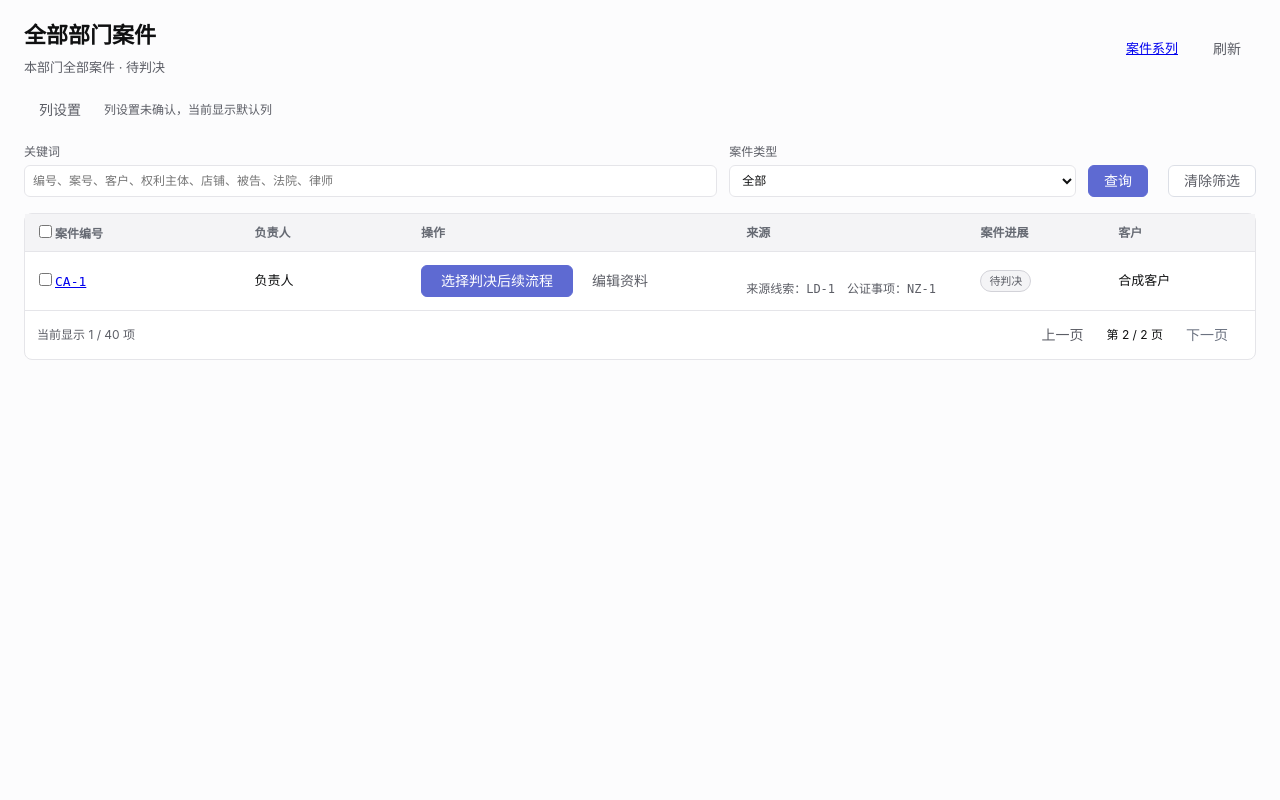
Test: case list workflow session › fails closed on inaccessible recovery storage without POST
This screenshot has width=1280, height=800.
Step 1. Click the button "选择判决后续流程" → [497, 281], box [421, 265, 573, 297]
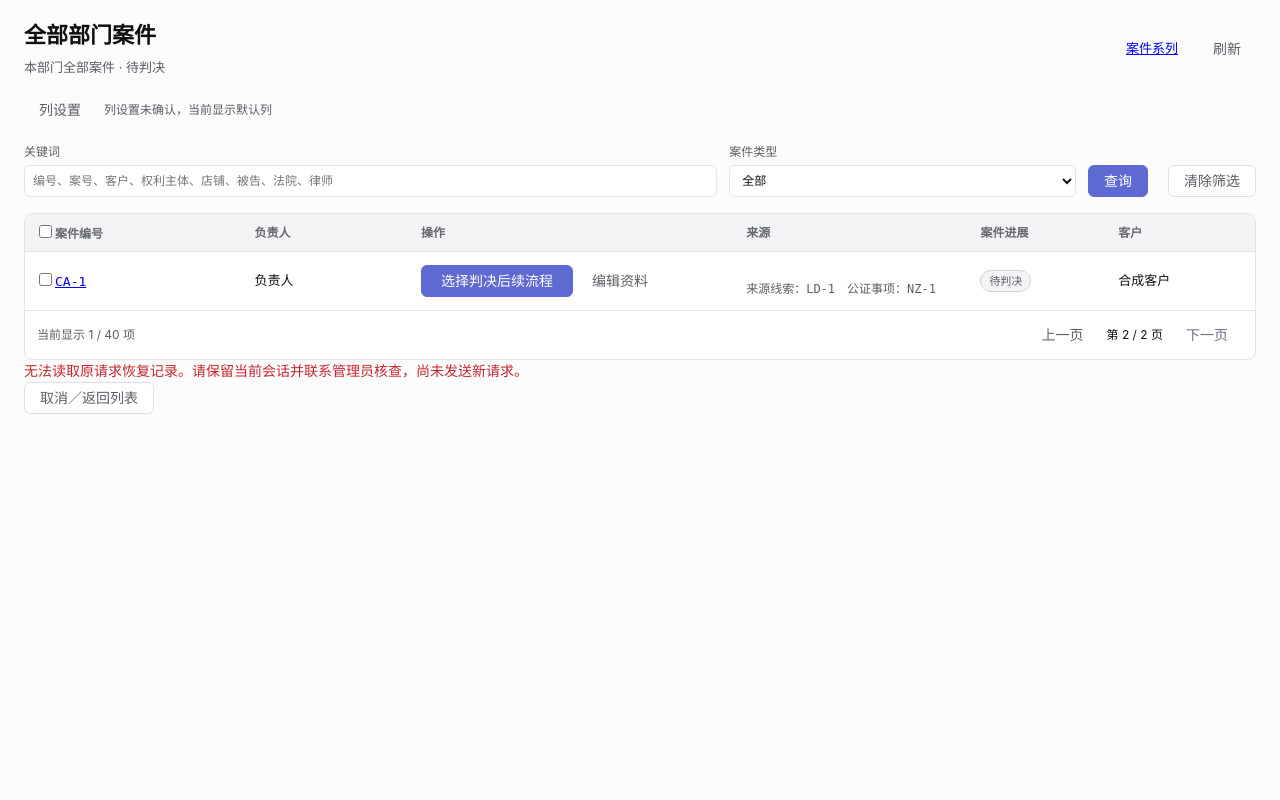
expect the text "尚未发送新请求" is shown: met, box [24, 362, 528, 379]
